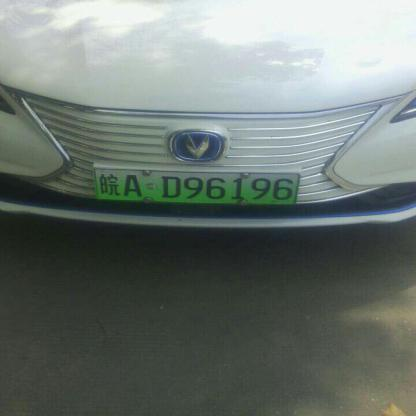lp: (94, 166, 299, 202)
